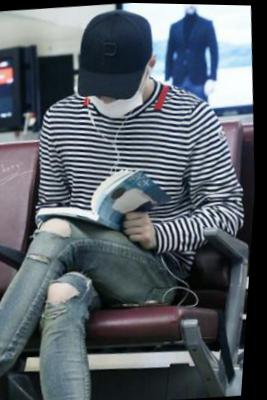WRONG: (88, 76, 150, 122)
